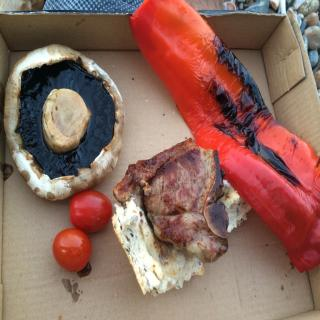tomato: (69, 190, 113, 232), (54, 228, 94, 270)
